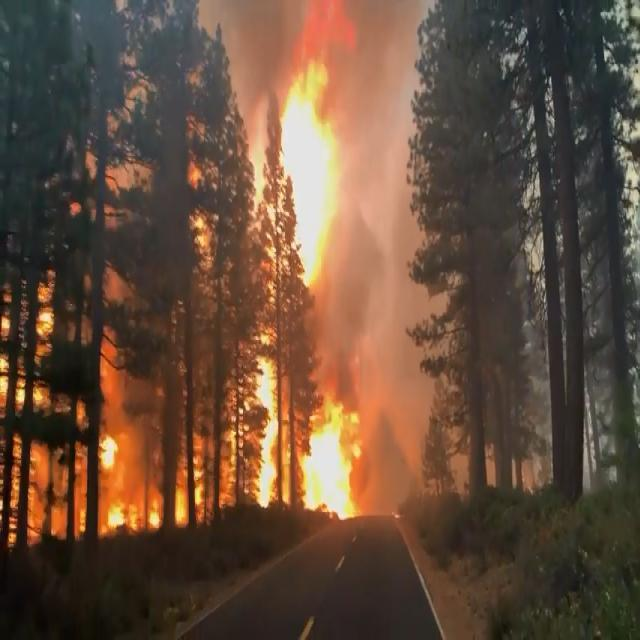Fire: (79, 54, 356, 524)
